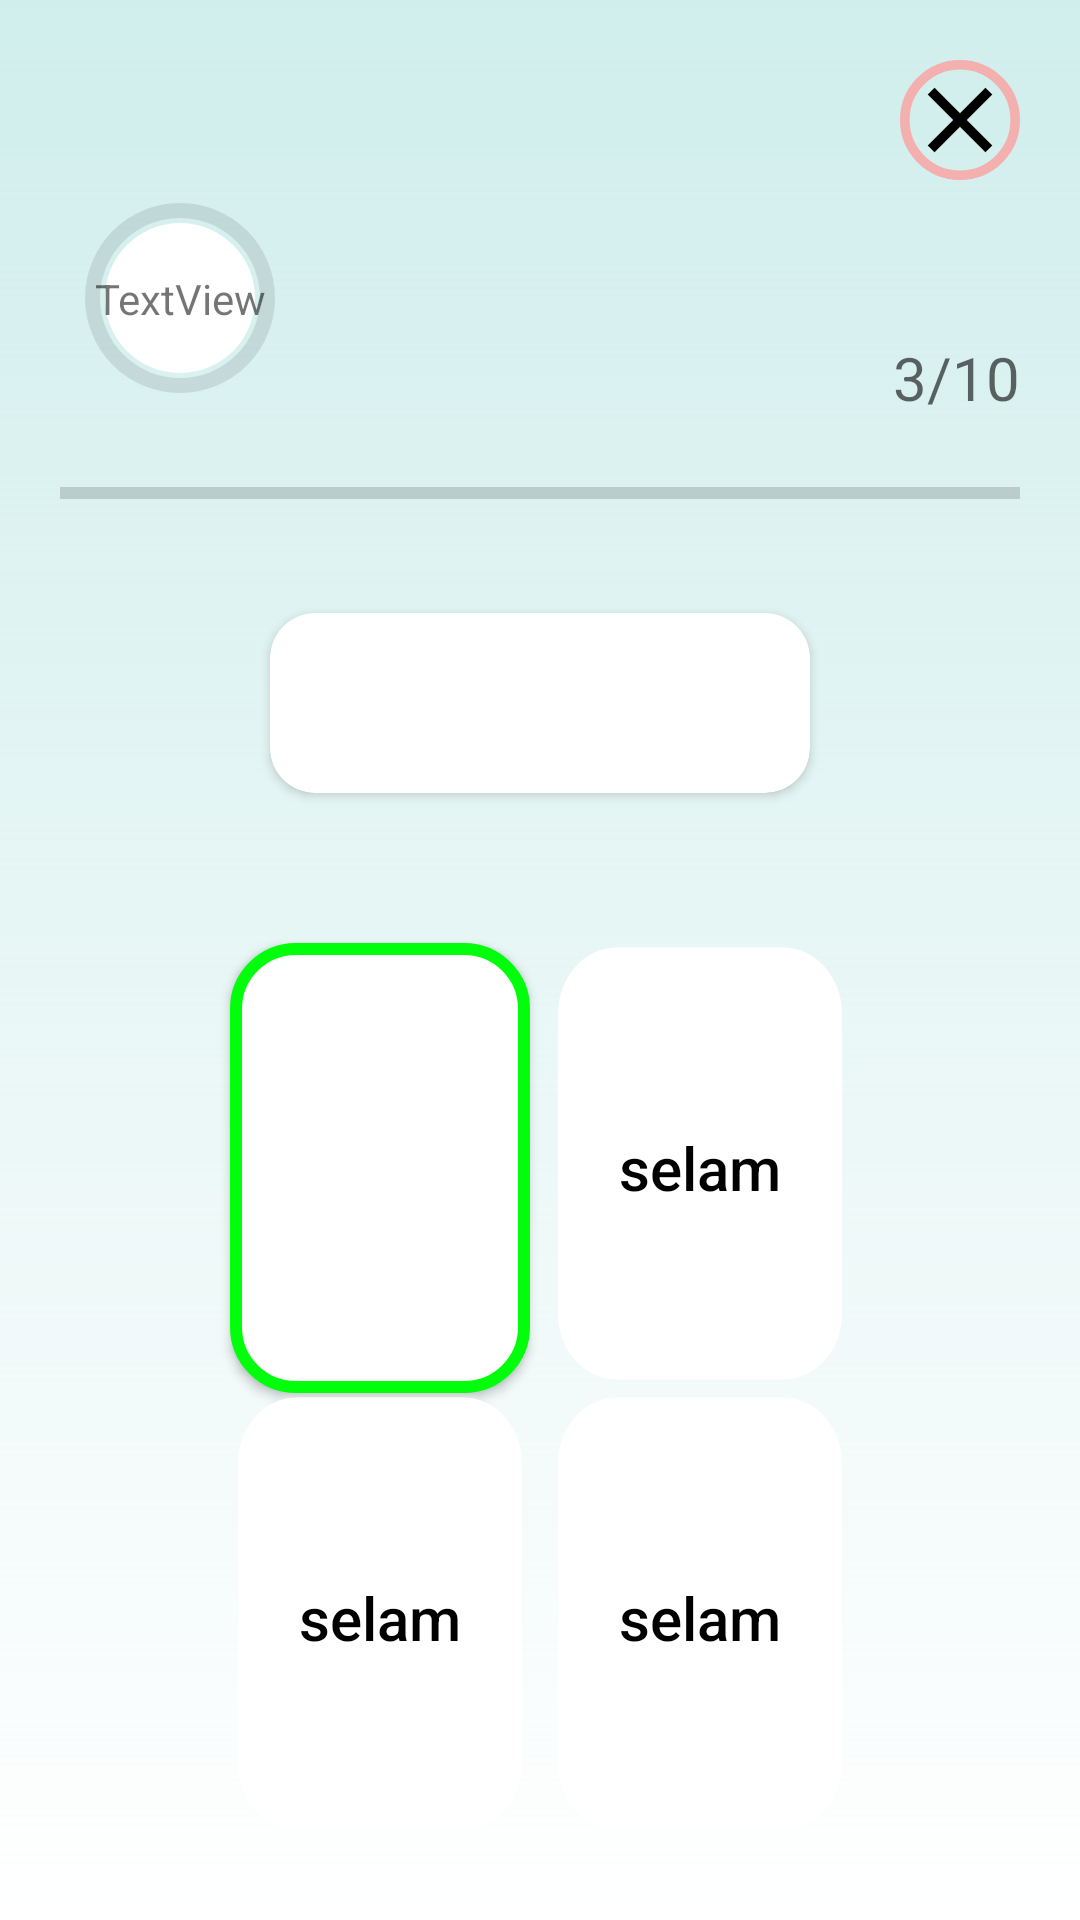

Named icons in this screenshot (1080 x 1920) and their centers, point (x, y):
cricle cross: point (960, 120)
